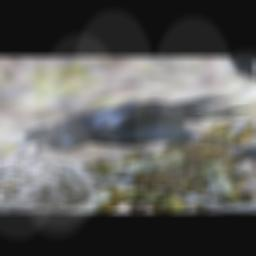Crow: (4, 71, 256, 182)
